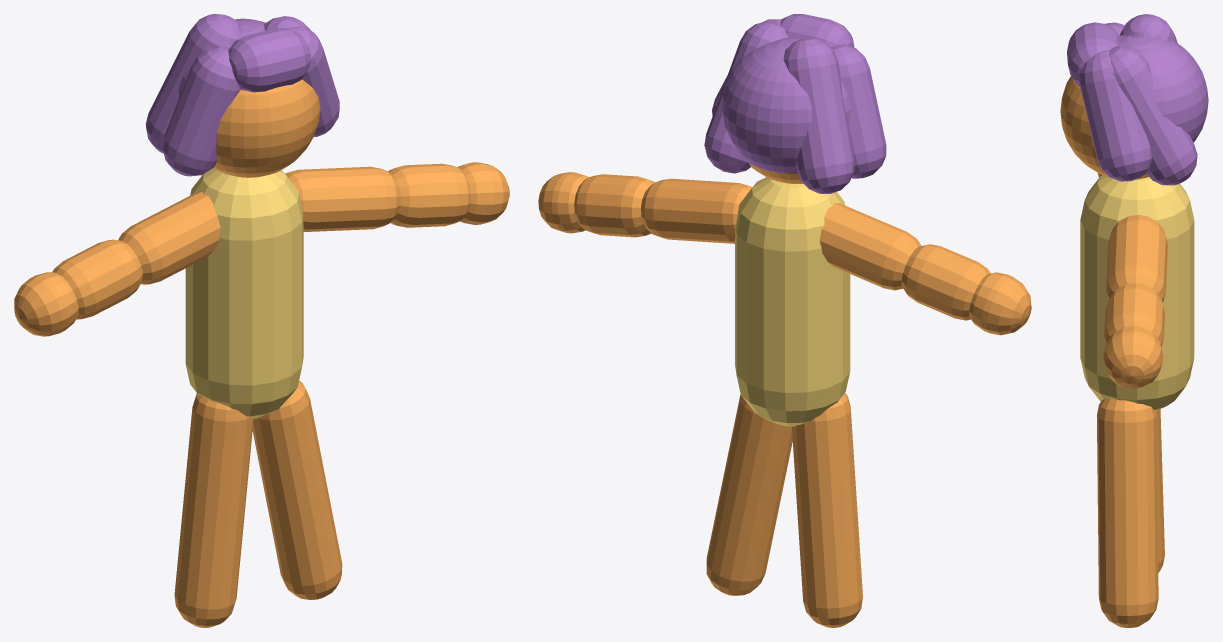
3 renders of one model, left to right at view 1: azimuth 30°, elevation 25°; view 2: azimuth 150°, elevation 25°; view 3: azimuth 270°, elevation 25°, orthographic. The views are drawn at different scales.
Parts seen in each view (by area): view 1: Capsule.6 (×3), Capsule, Capsule.7 (×3), Sphere, Capsule.2, Capsule.8 (×2), Capsule.3, Capsule.5, Capsule.1; view 2: Capsule, Capsule.6 (×3), Capsule.7 (×3), Sphere.1, Capsule.5, Capsule.8 (×2), Capsule.2, Capsule.4, Capsule.3; view 3: Capsule.7 (×2), Capsule, Capsule.1, Capsule.6 (×2), Capsule.4, Sphere.1, Capsule.8, Sphere, Capsule.3, Capsule.5.
Part boxes in pixels (x1,y1,x2,y2): Capsule.6 (×3): (118,166,400,627); Capsule: (185,168,303,418); Capsule.7 (×3): (52,163,470,599); Sphere: (213,79,320,177); Capsule.2: (162,46,240,176); Capsule.8 (×2): (14,162,509,336); Capsule.3: (228,28,310,92); Capsule.5: (145,14,241,153); Capsule.1: (288,26,339,137); Capsule: (735,177,850,426); Capsule.6 (×3): (641,178,921,627); Capsule.7 (×3): (574,174,990,595); Sphere.1: (721,37,850,172); Capsule.5: (783,38,854,193); Capsule.8 (×2): (538,172,1031,335); Capsule.2: (831,44,886,178); Capsule.4: (704,21,788,173); Capsule.3: (780,14,854,47); Capsule.7 (×2): (1097,283,1164,627); Capsule: (1080,175,1194,410); Capsule.1: (1079,50,1152,181); Capsule.6 (×2): (1106,215,1167,572); Capsule.4: (1109,46,1197,185); Sphere.1: (1119,35,1208,142); Capsule.8: (1103,326,1163,388); Sphere: (1060,76,1148,179); Capsule.3: (1067,22,1119,86); Capsule.5: (1120,14,1177,43).
Bounding box in the file's own units: 1.76 × 2.04 × 0.4788.
